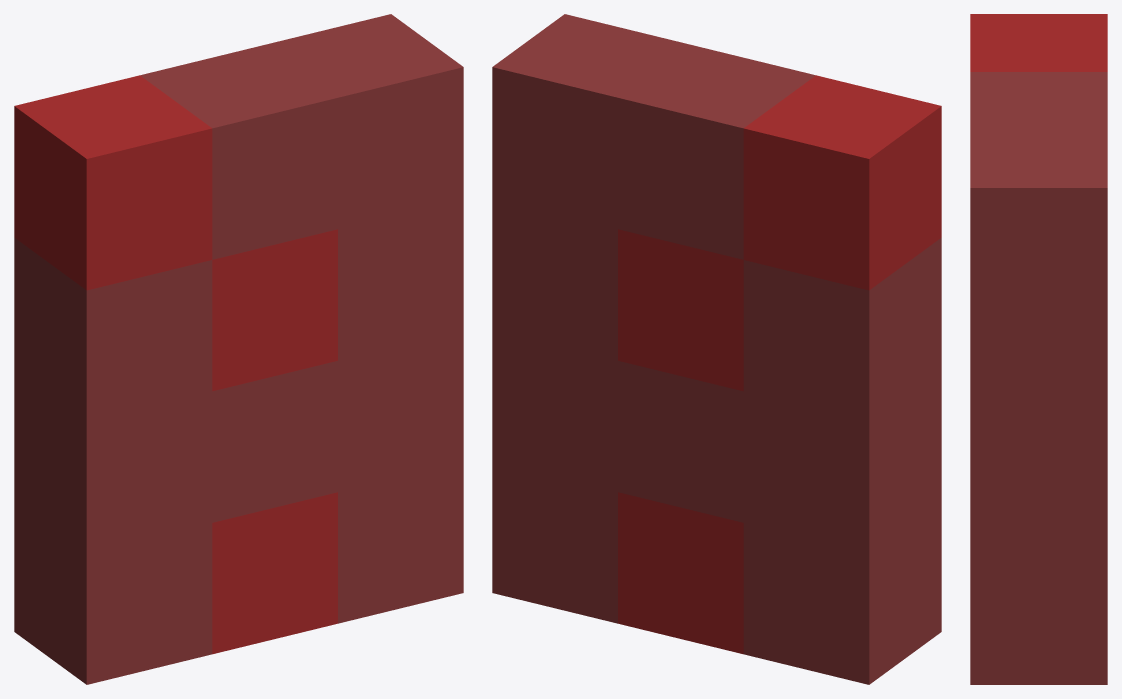
The model's file is doors-0.obj.
3 views of the same model, side by side, from view 1: azimuth 30°, elevation 25°; view 2: azimuth 150°, elevation 25°; view 3: azimuth 270°, elevation 25° (orthographic). The views are drawn at different scales.
Bounding box in the file's own units: 0.3 × 0.4 × 0.1.
